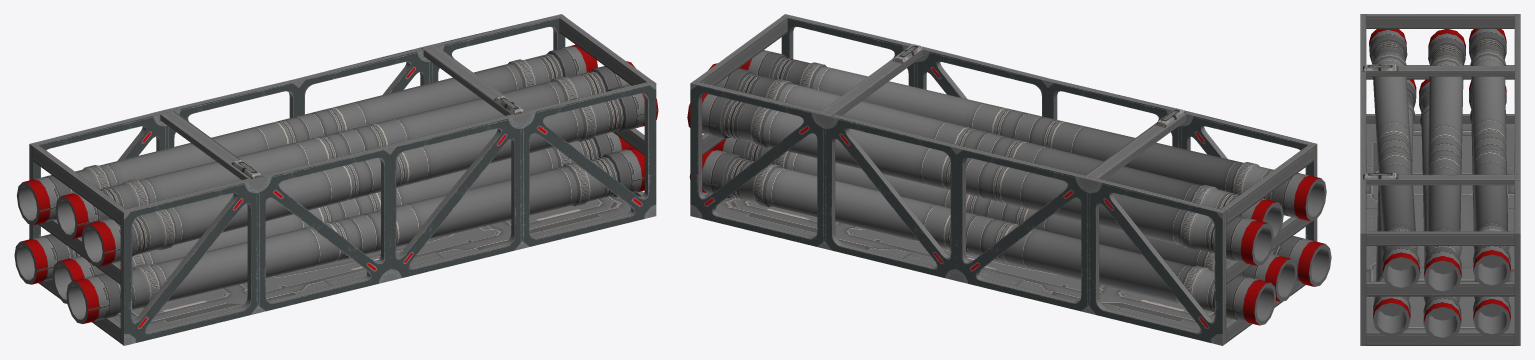
File: Prop_PipeHolder.glb
3 renders of one model, left to right at view 1: azimuth 30°, elevation 25°; view 2: azimuth 150°, elevation 25°; view 3: azimuth 270°, elevation 25°, orthographic. The views are drawn at different scales.
Visible parts, largest first — view 1: Prop_PipeHolder; view 2: Prop_PipeHolder; view 3: Prop_PipeHolder.
Boxes of the visible parts, x1,y1,x2,y2 form: Prop_PipeHolder: [14, 14, 658, 345]; Prop_PipeHolder: [687, 14, 1331, 345]; Prop_PipeHolder: [1360, 14, 1520, 345].
Size of the model in its own units: 4.12 by 0.9272 by 1.16.
Materials: 3 (3 with a texture image).
